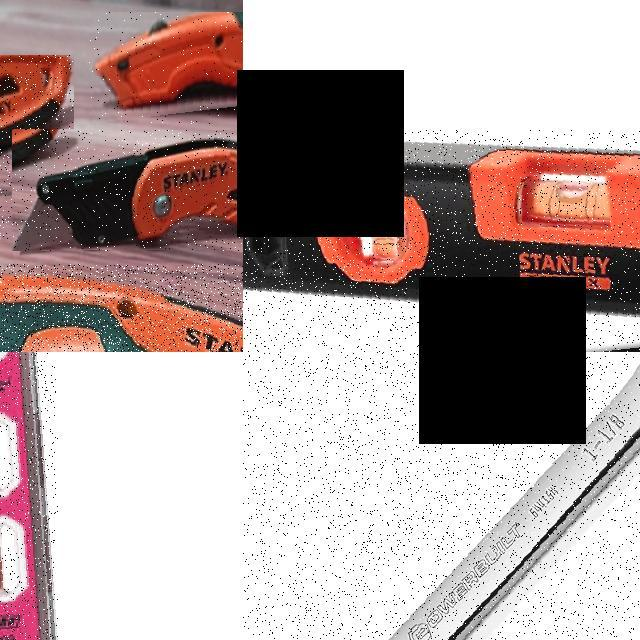estilete: (13, 139, 235, 251)
